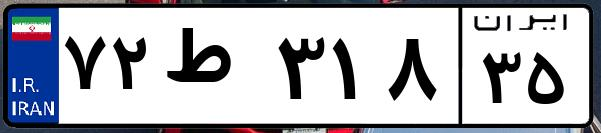1: (330, 28, 385, 110)
2: (110, 28, 158, 98)
3: (270, 28, 330, 110), (475, 38, 525, 113)
5: (525, 38, 570, 115)
7: (57, 26, 110, 100)
8: (385, 28, 445, 110)
ط: (158, 20, 270, 120)
